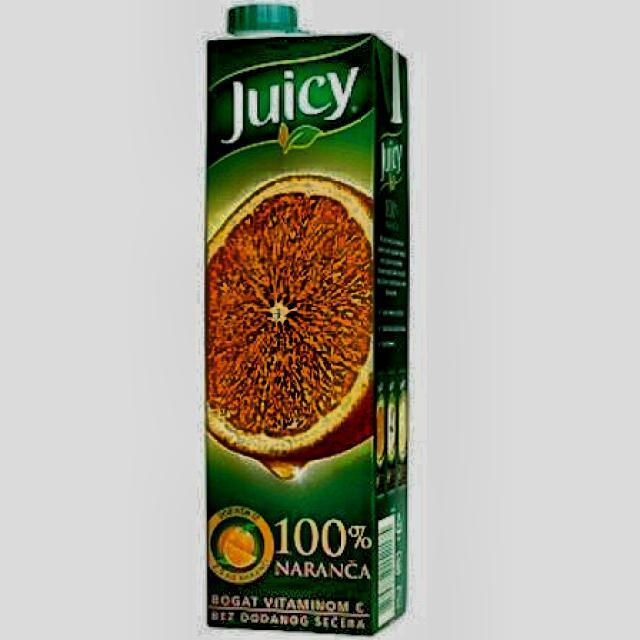cardboard: (202, 3, 412, 636)
